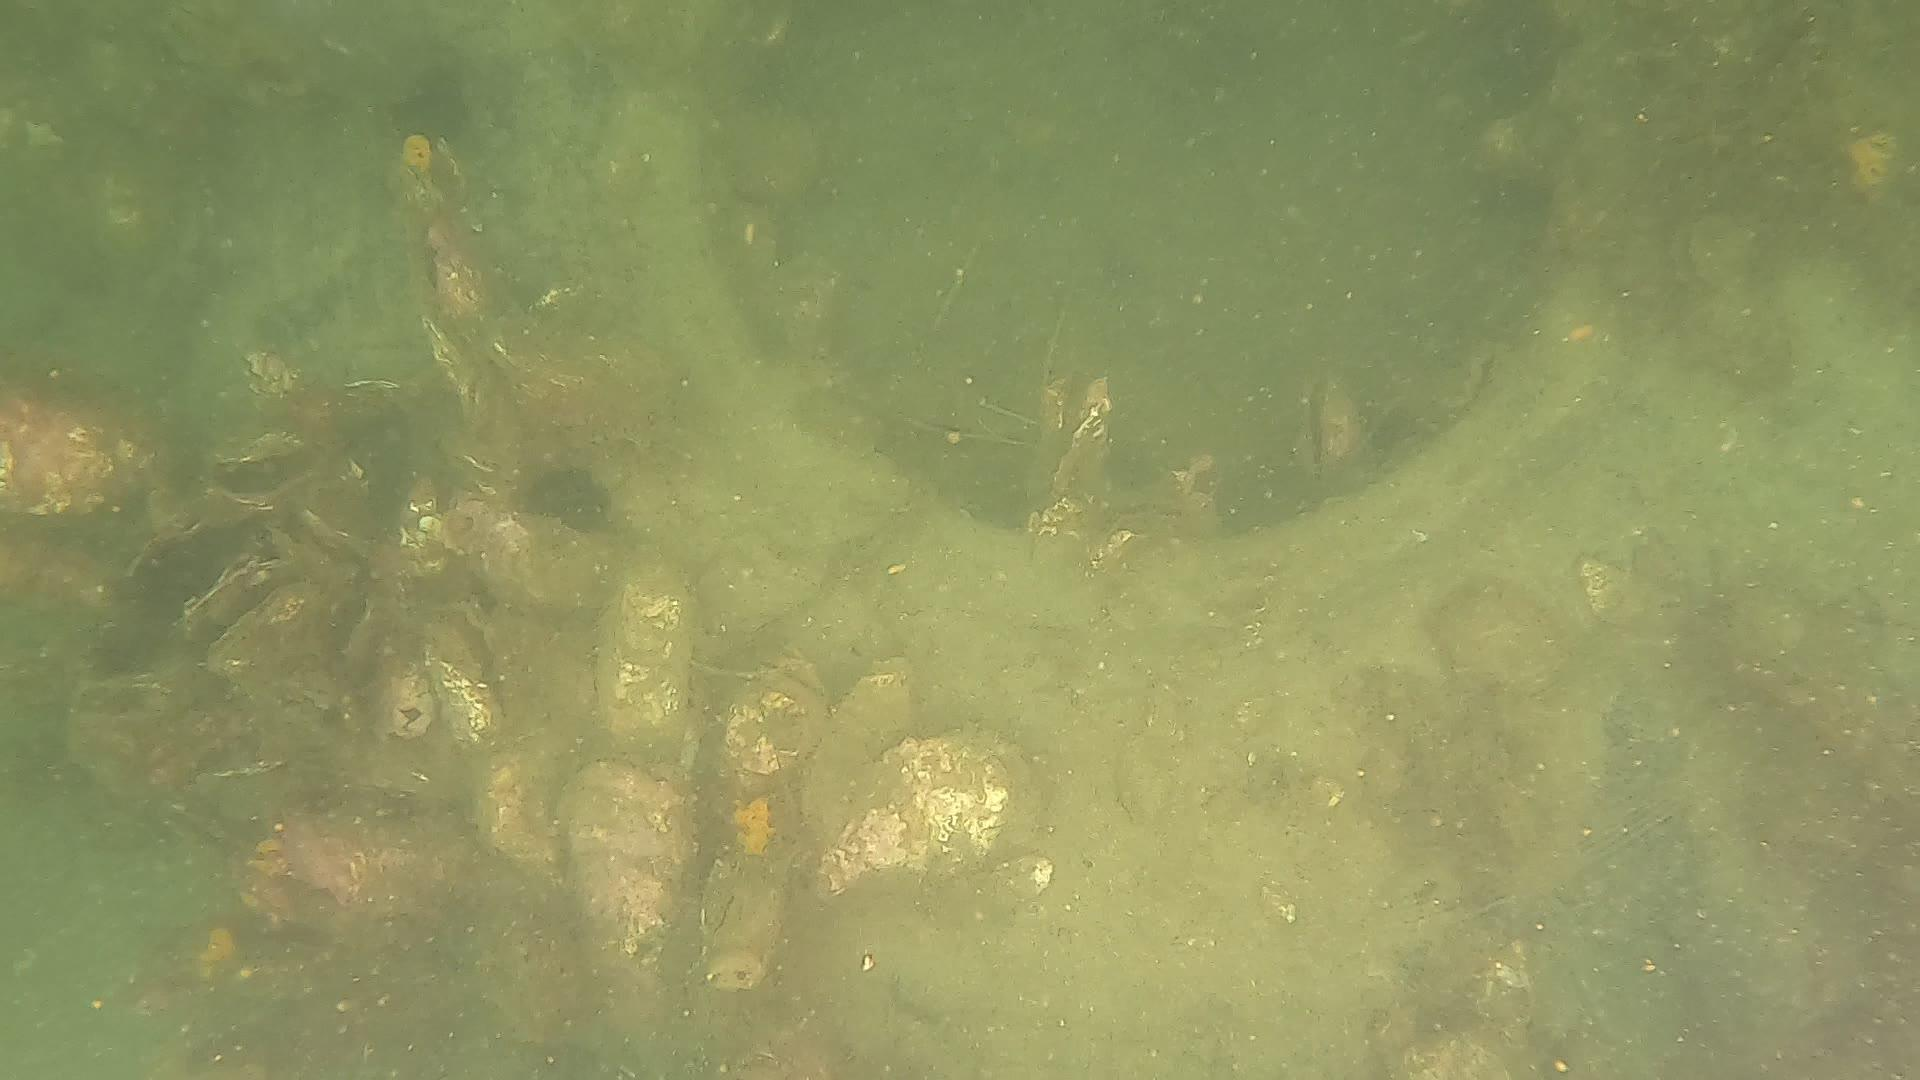tire: (178, 1, 1920, 1080)
